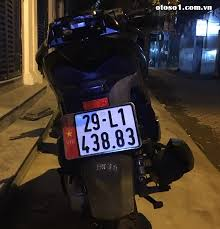number-plate: (74, 108, 139, 153)
